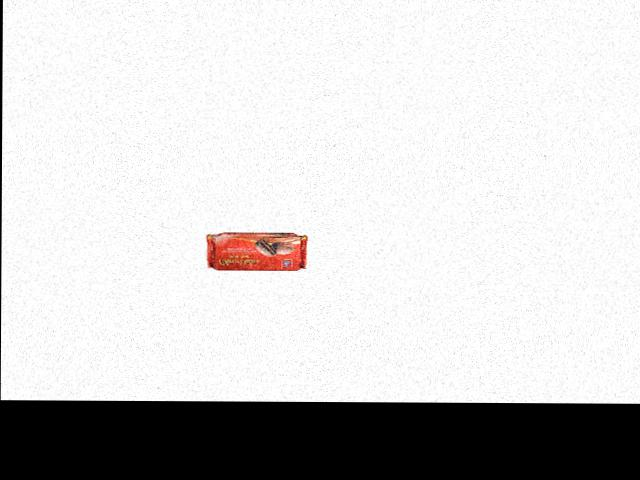chocolate: (205, 223, 309, 271)
